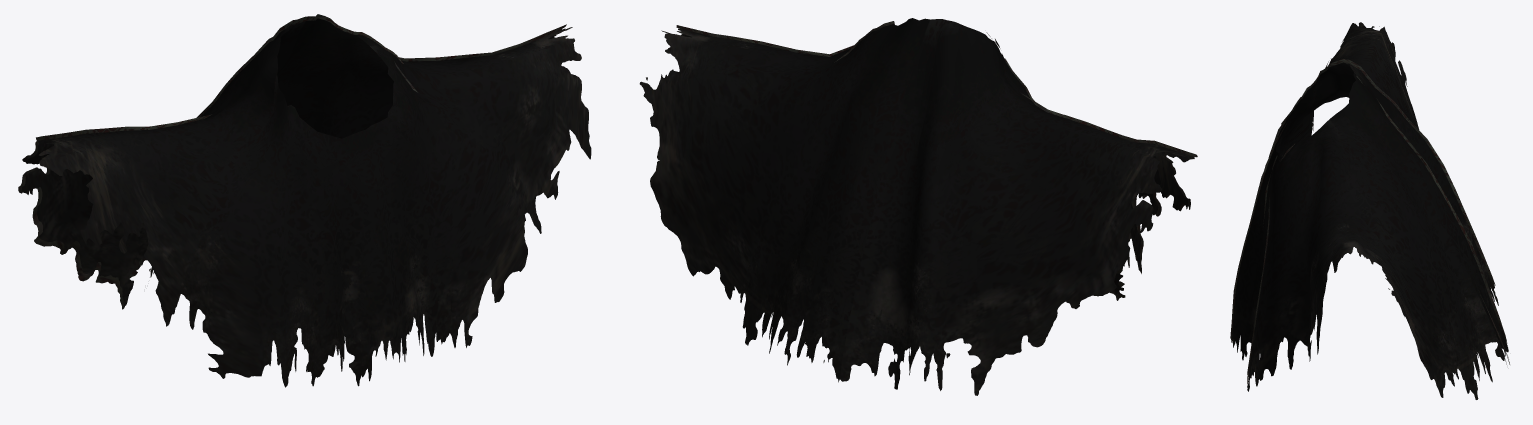
Rendered from coat_0.obj.
The picture shows the model from 3 angles, left to right: view 1: azimuth 30°, elevation 25°; view 2: azimuth 150°, elevation 25°; view 3: azimuth 270°, elevation 25°; orthographic projection. The views are drawn at different scales.
Visible parts, largest first — view 1: coat_0_Material.002; view 2: coat_0_Material.002; view 3: coat_0_Material.002.
Boxes of the visible parts, bbox=[...] form: coat_0_Material.002: bbox=[18, 14, 591, 387]; coat_0_Material.002: bbox=[639, 18, 1197, 395]; coat_0_Material.002: bbox=[1230, 22, 1509, 399].
Size of the model in its own units: 0.7998 by 0.4456 by 0.4022.
